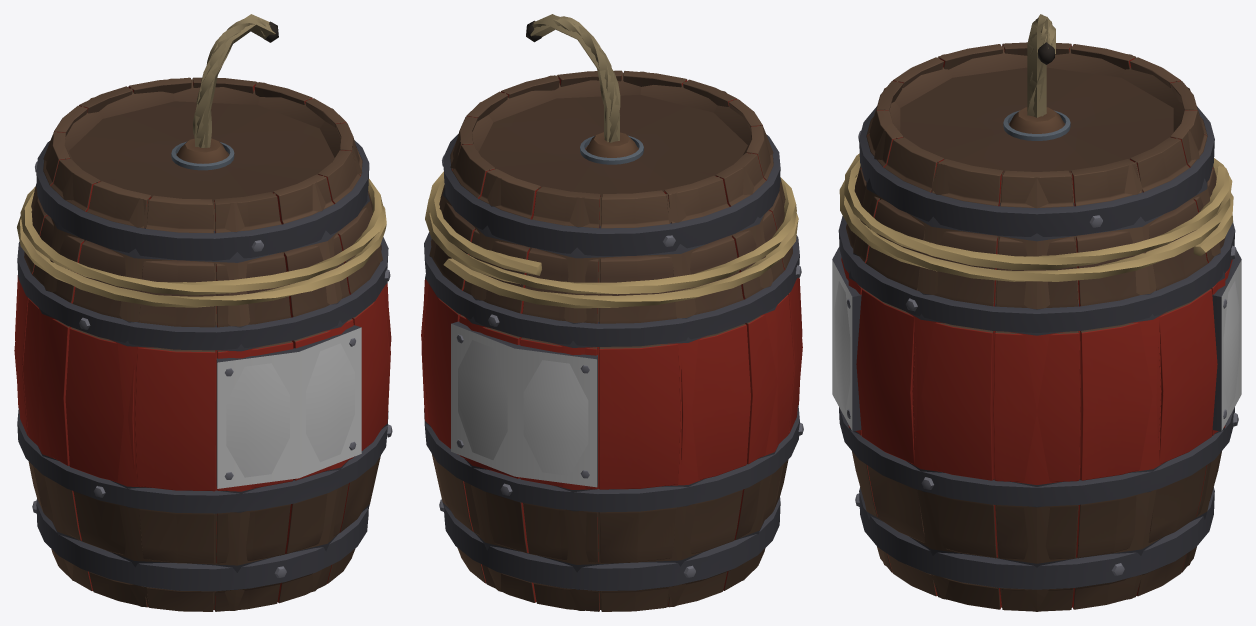
The model's file is pr_keg.glb.
3 renders of one model, left to right at view 1: azimuth 30°, elevation 25°; view 2: azimuth 150°, elevation 25°; view 3: azimuth 270°, elevation 25°, orthographic. The views are drawn at different scales.
Visible parts, largest first — view 1: PR_keg__body, PR_keg__far; view 2: PR_keg__body, PR_keg__far; view 3: PR_keg__body, PR_keg__far.
Part boxes in pixels (x1,y1,x2,y2): PR_keg__body: (14, 18, 392, 611); PR_keg__far: (15, 14, 390, 610); PR_keg__body: (421, 16, 803, 611); PR_keg__far: (421, 14, 802, 610); PR_keg__body: (834, 14, 1239, 611); PR_keg__far: (832, 19, 1241, 611).
Bounding box in the file's own units: 0.84 × 1.27 × 0.8543.
